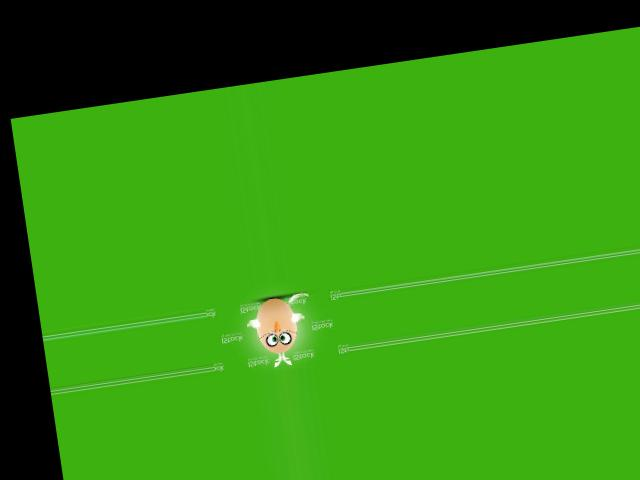egg: (253, 294, 301, 355)
